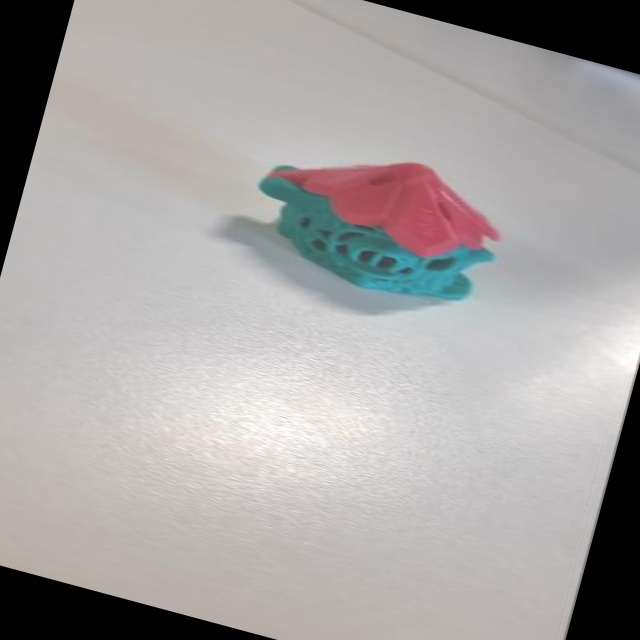House: (183, 102, 527, 352)
